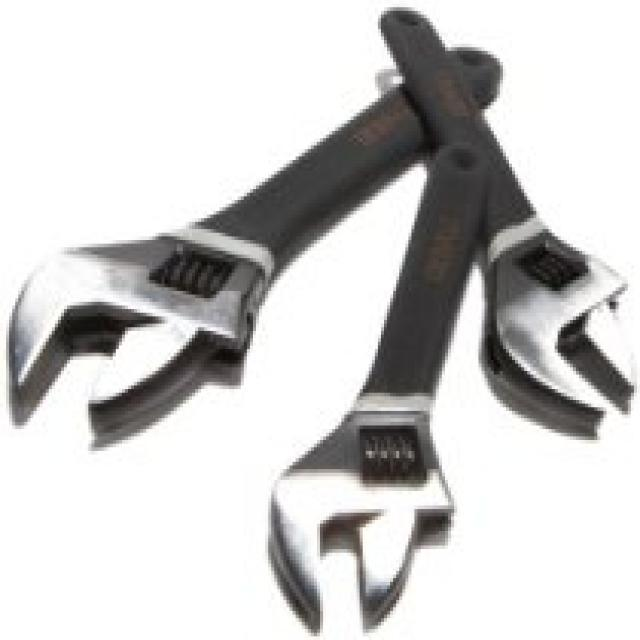wrench: (6, 43, 508, 444), (260, 140, 496, 632), (373, 4, 640, 438)
